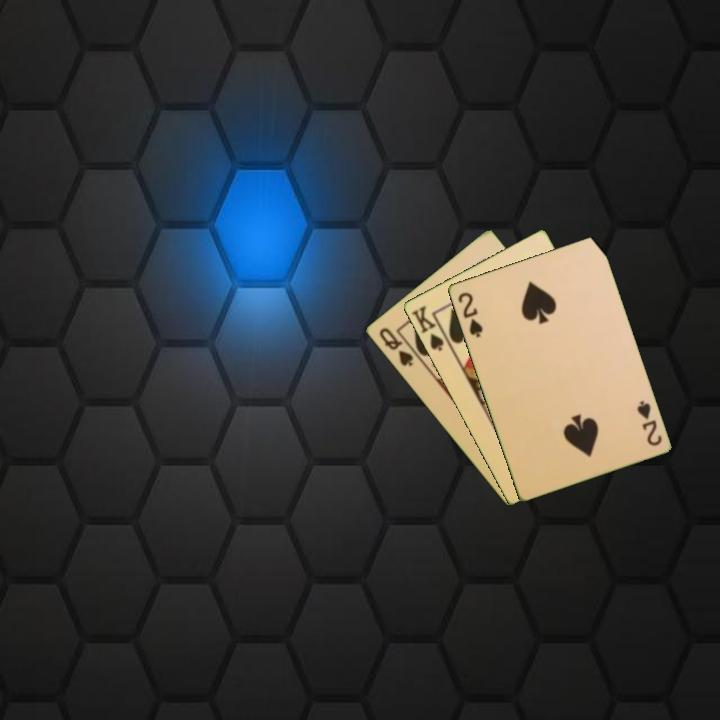2s: (454, 288, 485, 340), (633, 397, 664, 449)
Ks: (407, 302, 447, 354)
Qs: (375, 324, 416, 370)
